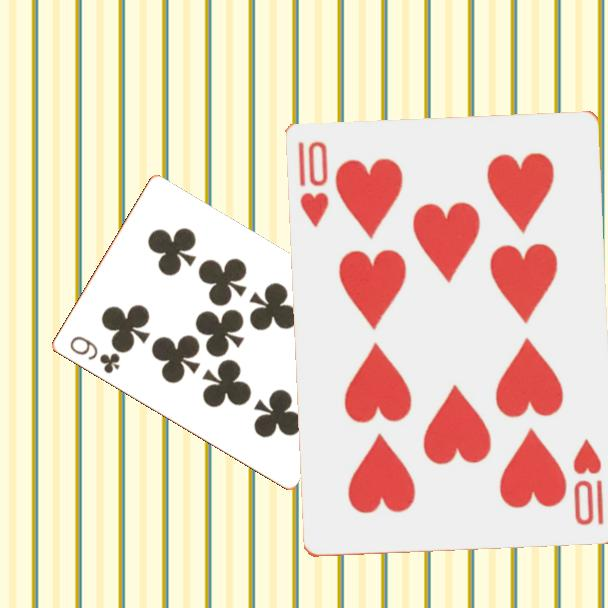c09: (66, 332, 122, 377)
h10: (570, 436, 607, 529), (295, 138, 332, 230)
